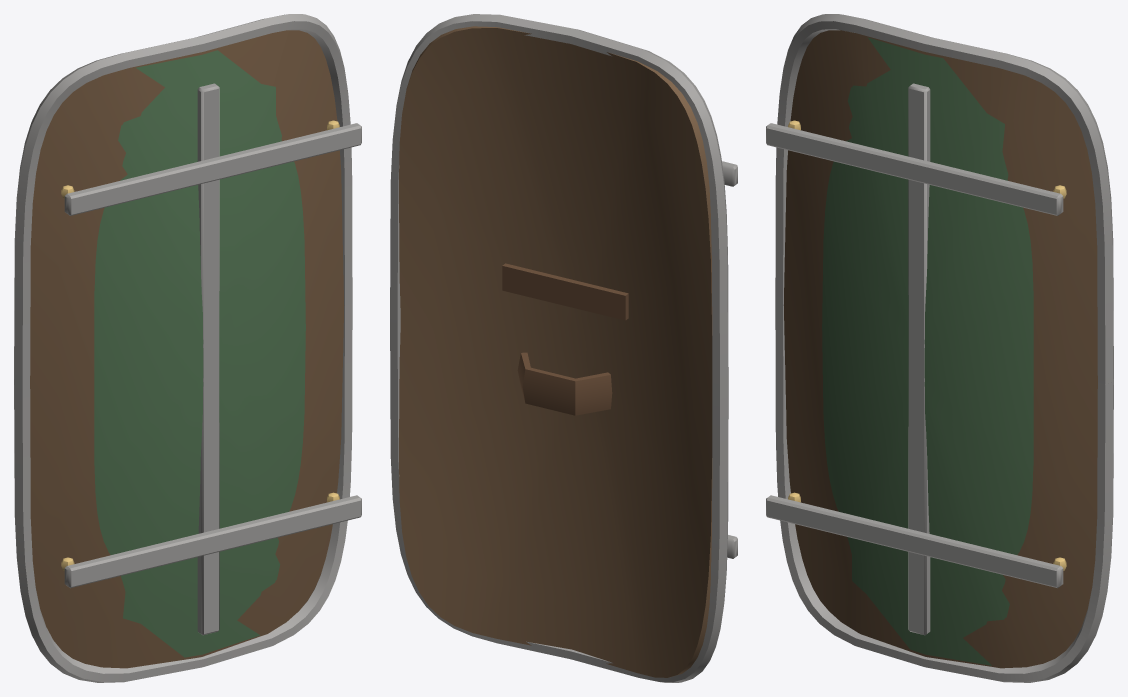
The model's file is tower_shield.glb.
3 views of the same model, side by side, from view 1: azimuth 30°, elevation 25°; view 2: azimuth 150°, elevation 25°; view 3: azimuth 330°, elevation 25° (orthographic).
Visible parts, largest first — view 1: tower_shield; view 2: tower_shield; view 3: tower_shield.
Part boxes in pixels (bbox=[...]): tower_shield: bbox=[14, 14, 361, 682]; tower_shield: bbox=[390, 14, 737, 682]; tower_shield: bbox=[766, 14, 1113, 682].
Size of the model in its own units: 0.712 by 1.27 by 0.1589.
